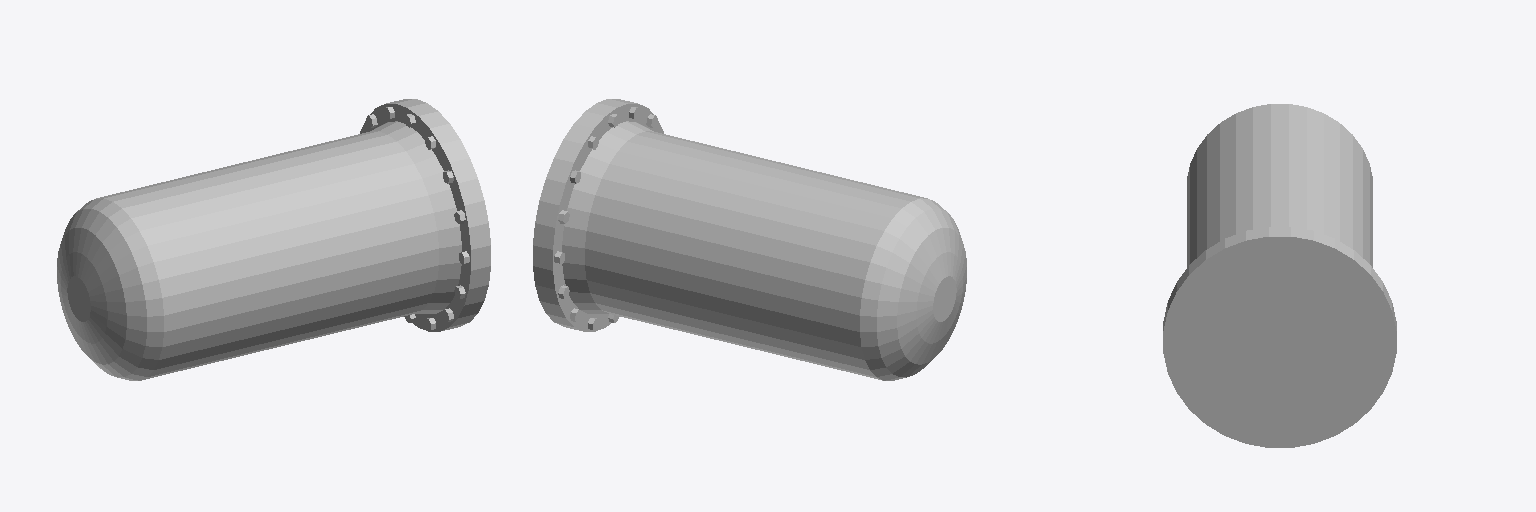
Rendered from pipeworks_pipe_2.obj.
3 views of the same model, side by side, from view 1: azimuth 30°, elevation 25°; view 2: azimuth 150°, elevation 25°; view 3: azimuth 270°, elevation 25° (orthographic).
Parts seen in each view (by area): view 1: Pipe_Cylinder.002_None.002; view 2: Pipe_Cylinder.002_None.002; view 3: Pipe_Cylinder.002_None.002.
Part boxes in pixels (bbox=[...]): Pipe_Cylinder.002_None.002: bbox=[57, 99, 490, 380]; Pipe_Cylinder.002_None.002: bbox=[533, 99, 966, 380]; Pipe_Cylinder.002_None.002: bbox=[1163, 104, 1396, 447].
Bounding box in the file's own units: 0.5469 × 0.3125 × 0.3125.